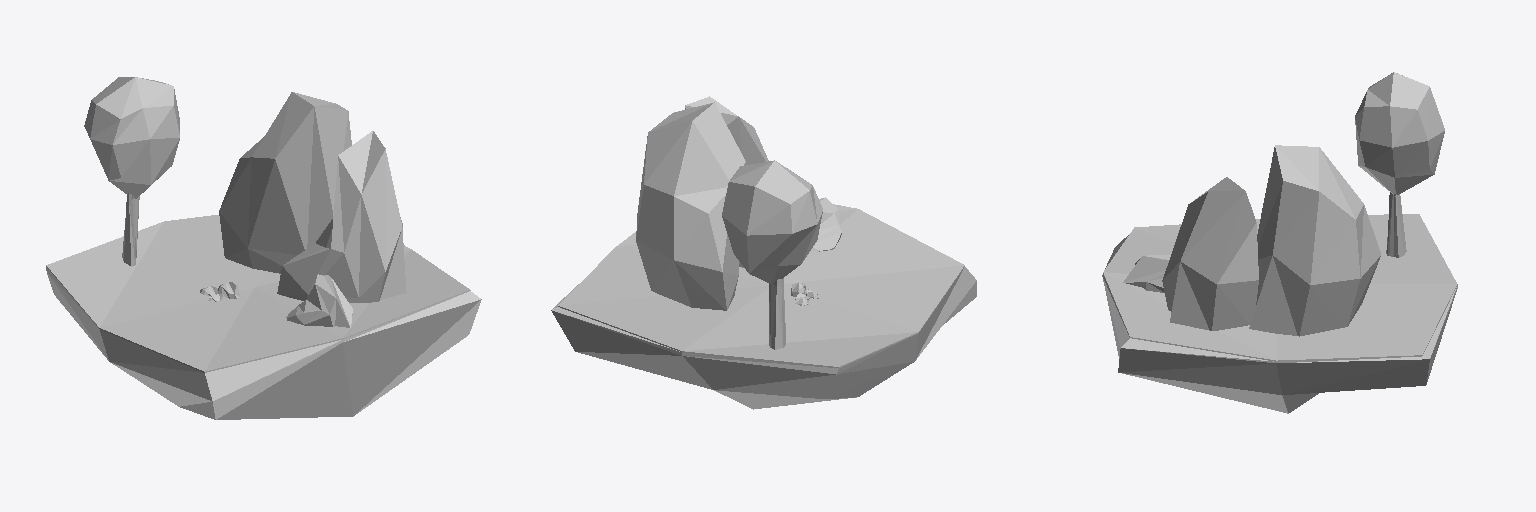
Rendered from Island_Test_01.obj.
The picture shows the model from 3 angles: view 1: azimuth 30°, elevation 25°; view 2: azimuth 150°, elevation 25°; view 3: azimuth 270°, elevation 25°; orthographic projection.
Visible parts, largest first — view 1: Group23935, Group18082, Group28752, Group63783, Group27263, Group63321; view 2: Group18082, Group23935, Group28752, Group63783, Group27263, Group63321, Group19742; view 3: Group23935, Group18082, Group27263, Group63783, Group19742, Group28752, Group63321.
Part boxes in pixels (left/top/right/bottom): Group23935: left=201, top=92, right=406, bottom=327; Group18082: left=46, top=215, right=470, bottom=372; Group28752: left=205, top=291, right=481, bottom=419; Group63783: left=84, top=77, right=179, bottom=198; Group27263: left=46, top=267, right=215, bottom=419; Group63321: left=122, top=193, right=139, bottom=266; Group18082: left=558, top=204, right=964, bottom=367; Group23935: left=636, top=96, right=841, bottom=310; Group28752: left=551, top=307, right=838, bottom=398; Group63783: left=722, top=160, right=822, bottom=283; Group27263: left=553, top=267, right=976, bottom=398; Group63321: left=769, top=278, right=785, bottom=349; Group19742: left=714, top=390, right=856, bottom=409; Group23935: left=1123, top=145, right=1380, bottom=336; Group18082: left=1103, top=214, right=1457, bottom=361; Group27263: left=1118, top=338, right=1429, bottom=394; Group63783: left=1355, top=72, right=1444, bottom=194; Group19742: left=1122, top=373, right=1318, bottom=413; Group28752: left=1102, top=235, right=1457, bottom=384; Group63321: left=1386, top=192, right=1406, bottom=257.
Size of the model in its own units: 4.66 by 4.42 by 4.66.